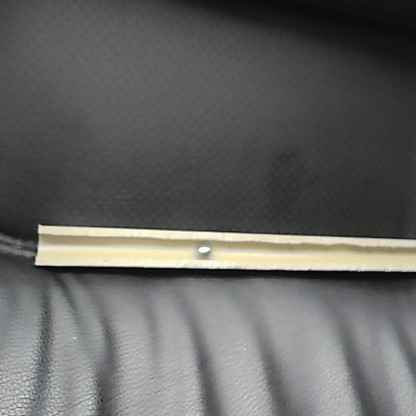ironball: (194, 238, 213, 259)
